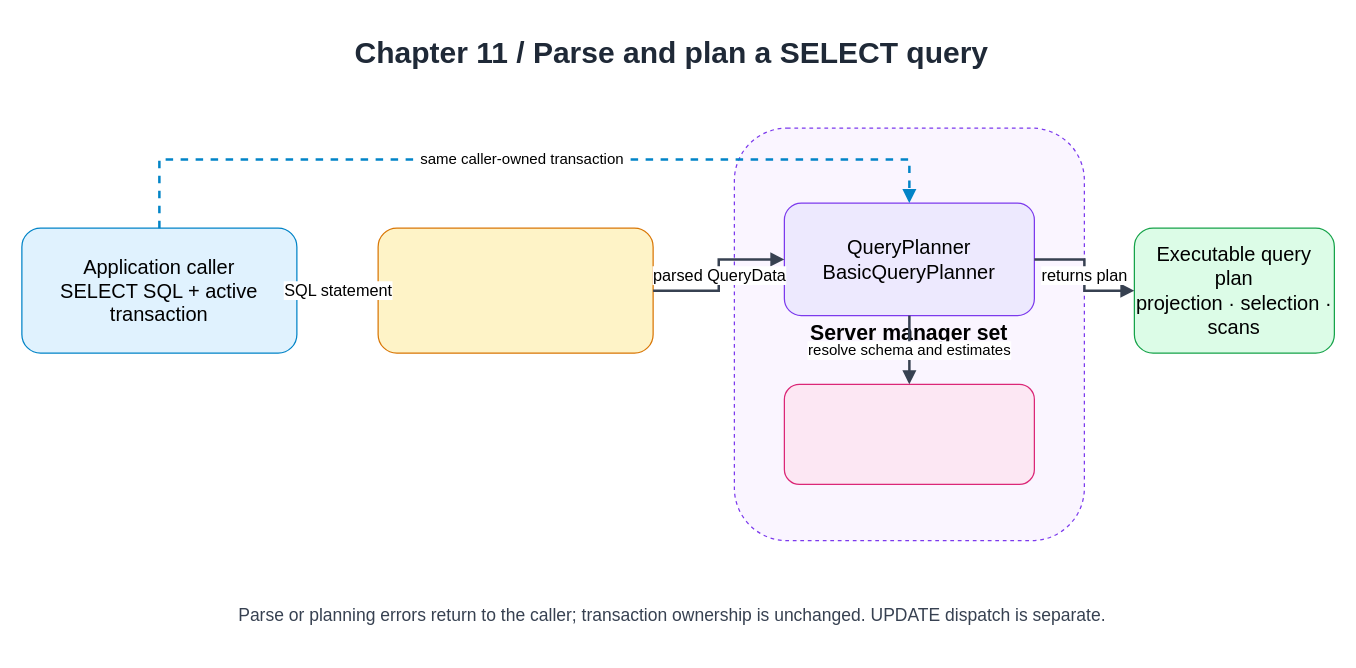
Image size: 1356x668. Some labels were removed from this diagram. The centre of each missing label's shape, as x and y in pixels:
"Parser.ParseQuery SQL text → QueryData" belongs at point (515, 290).
"Shared metadata table layouts · statistics" belongs at point (908, 433).
